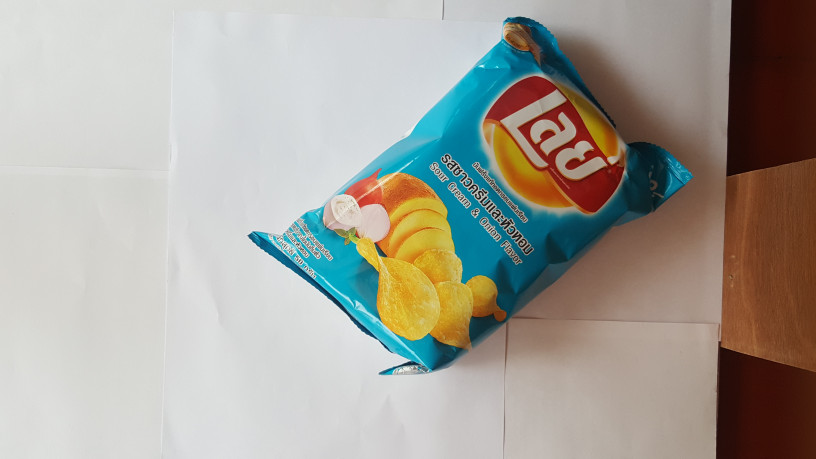lays-onion: (238, 10, 697, 390)
